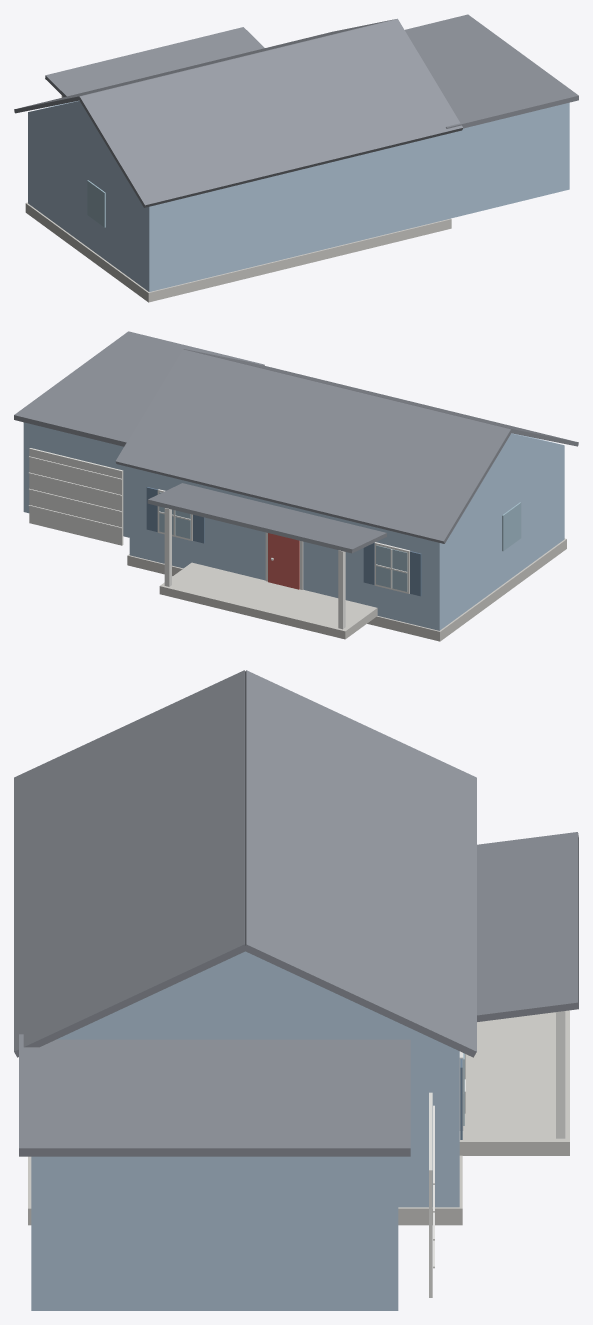
Rendered from house_ranch.glb.
The picture shows the model from 3 angles, top to bottom: view 1: azimuth 30°, elevation 25°; view 2: azimuth 150°, elevation 25°; view 3: azimuth 270°, elevation 25°; orthographic projection. The views are drawn at different scales.
Visible parts, largest first — view 1: body; view 2: body; view 3: body.
Part boxes in pixels (x1,y1,x2,y2): body: [14, 14, 578, 302]; body: [14, 331, 578, 641]; body: [14, 670, 578, 1310].
Bounding box in the file's own units: 14.5 × 5.18 × 9.23.
